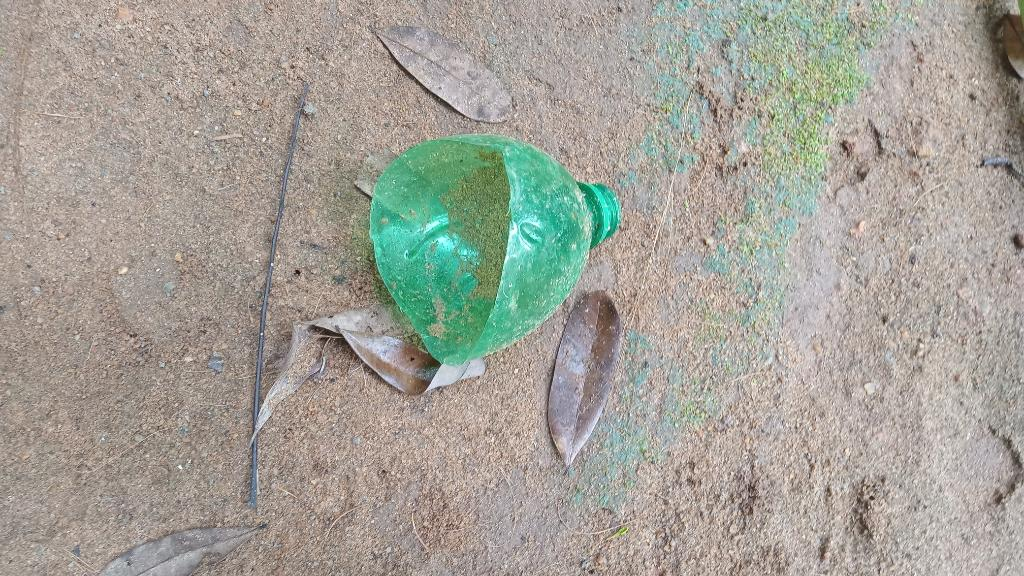garbage: (336, 121, 637, 374)
